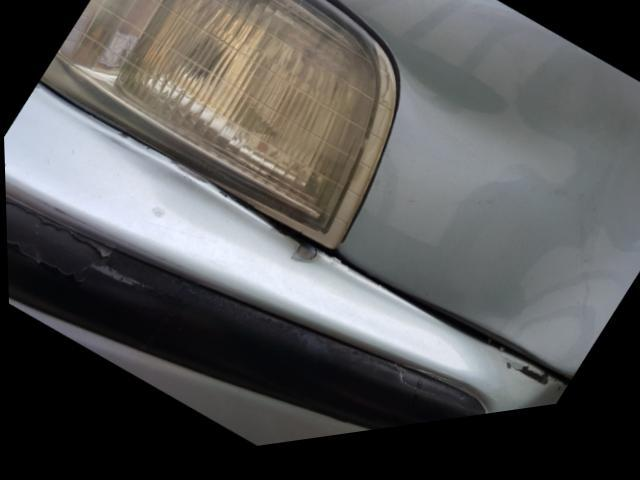dent: (337, 0, 640, 390)
